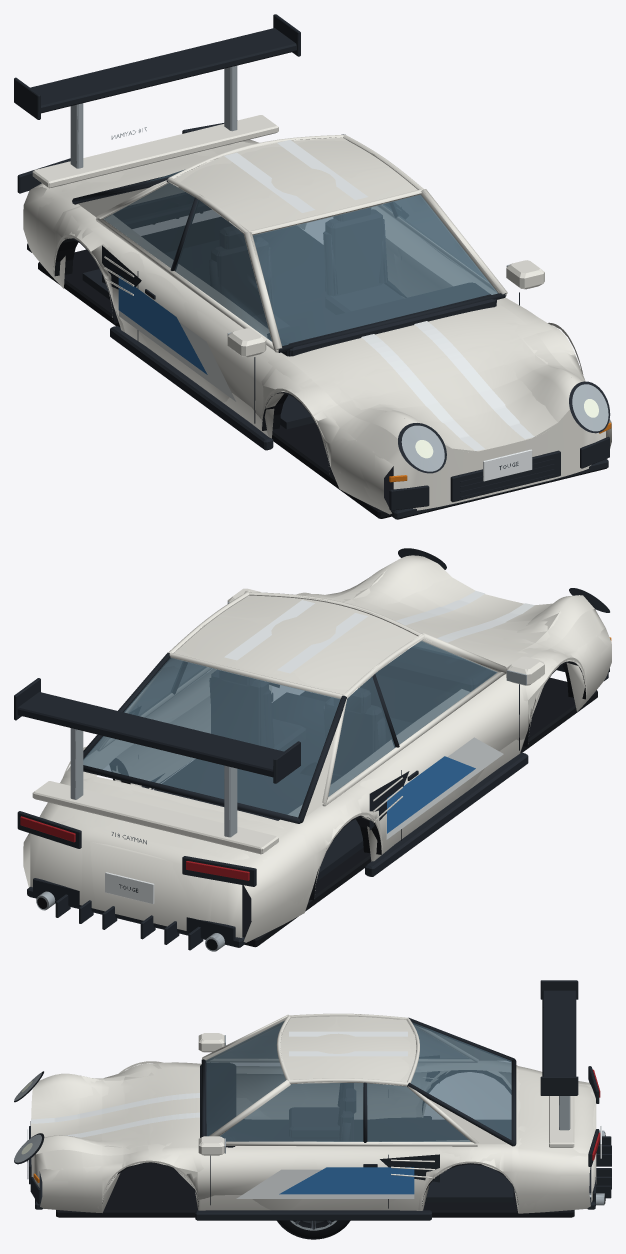
The model's file is cayman.glb.
3 views of the same model, one above another, from view 1: azimuth 30°, elevation 25°; view 2: azimuth 150°, elevation 25°; view 3: azimuth 270°, elevation 25° (orthographic). The views are drawn at different scales.
Visible parts, largest first — view 1: LOD0_body, LOD0_cabin, LOD0_glass, LOD1_glass, LOD1_body, LOD0_hood, LOD1_hood, LOD1_cabin, LOD1_spoiler_gt, LOD0_spoiler_gt, LOD0_vinyl_apex, LOD1_spoiler_stock (+3 smaller); view 2: LOD0_body, LOD0_cabin, LOD0_glass, LOD1_glass, LOD1_body, LOD1_cabin, LOD0_hood, LOD1_spoiler_gt, LOD1_hood, LOD0_spoiler_gt, LOD0_vinyl_apex, LOD1_spoiler_stock (+3 smaller); view 3: LOD0_body, LOD0_cabin, LOD0_glass, LOD1_glass, LOD1_body, LOD0_hood, LOD1_cabin, LOD0_vinyl_apex, LOD1_hood, LOD1_spoiler_gt, LOD0_vinyl_twin, LOD0_spoiler_gt (+4 smaller).
Part boxes in pixels (x1,y1,x2,y2): LOD0_body: [17, 123, 611, 519]; LOD0_cabin: [72, 134, 507, 429]; LOD0_glass: [104, 170, 497, 345]; LOD1_glass: [104, 170, 497, 345]; LOD1_body: [18, 131, 610, 519]; LOD0_hood: [284, 304, 581, 452]; LOD1_hood: [303, 309, 571, 451]; LOD1_cabin: [73, 135, 506, 429]; LOD1_spoiler_gt: [14, 28, 300, 168]; LOD0_spoiler_gt: [14, 14, 300, 168]; LOD0_vinyl_apex: [118, 245, 453, 401]; LOD1_spoiler_stock: [32, 115, 278, 188]; LOD0_body: [17, 548, 611, 951]; LOD0_cabin: [83, 590, 506, 887]; LOD0_glass: [83, 640, 496, 817]; LOD1_glass: [83, 641, 497, 816]; LOD1_body: [18, 548, 611, 951]; LOD1_cabin: [129, 591, 503, 887]; LOD0_hood: [327, 555, 594, 667]; LOD1_spoiler_gt: [16, 678, 288, 836]; LOD1_hood: [344, 570, 558, 651]; LOD0_spoiler_gt: [14, 678, 300, 837]; LOD0_vinyl_apex: [189, 673, 503, 839]; LOD1_spoiler_stock: [32, 781, 277, 854]; LOD0_body: [14, 1033, 611, 1220]; LOD0_cabin: [200, 1013, 516, 1202]; LOD0_glass: [206, 1020, 511, 1141]; LOD1_glass: [205, 1021, 511, 1141]; LOD1_body: [15, 1033, 605, 1220]; LOD0_hood: [31, 1067, 199, 1155]; LOD1_cabin: [201, 1014, 515, 1202]; LOD0_vinyl_apex: [236, 1167, 414, 1198]; LOD1_hood: [31, 1072, 199, 1147]; LOD1_spoiler_gt: [541, 990, 575, 1129]; LOD0_vinyl_twin: [34, 1031, 407, 1137]; LOD0_spoiler_gt: [540, 980, 578, 1130].
Bounding box in the file's own units: 2.06 × 1.77 × 4.63.
